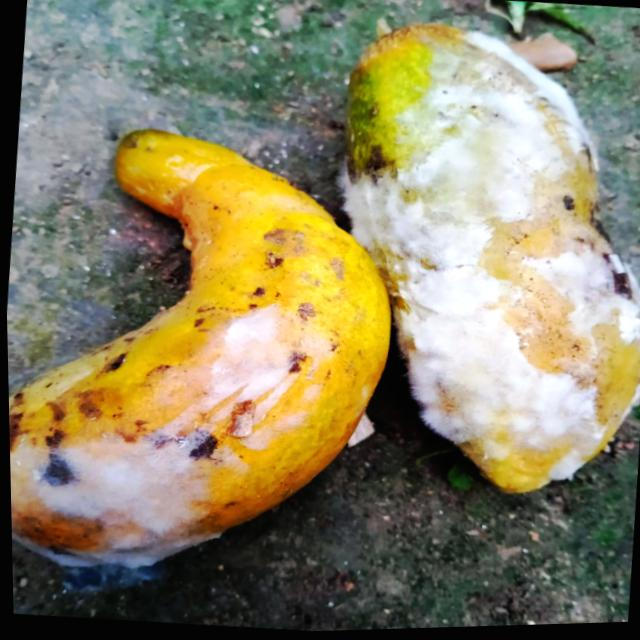Pythium-Fruit-Rot: (313, 18, 640, 496), (5, 281, 304, 581)
